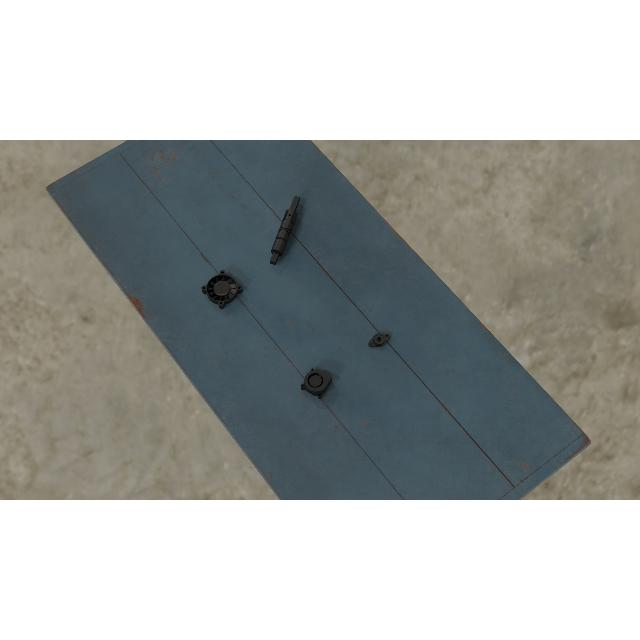Pieza1: (267, 193, 303, 267)
Pieza2: (365, 329, 393, 351)
Pieza3: (300, 366, 332, 400)
Pieza4: (200, 269, 244, 311)
